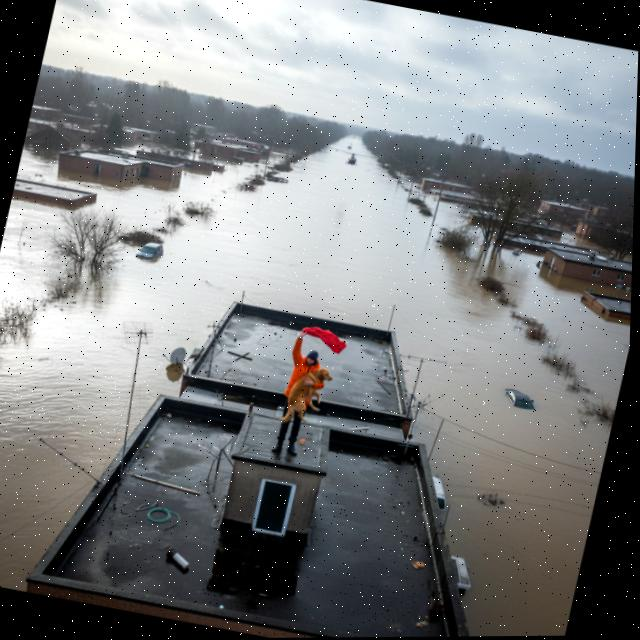civilian: (262, 320, 331, 465)
dog: (276, 346, 343, 435)
